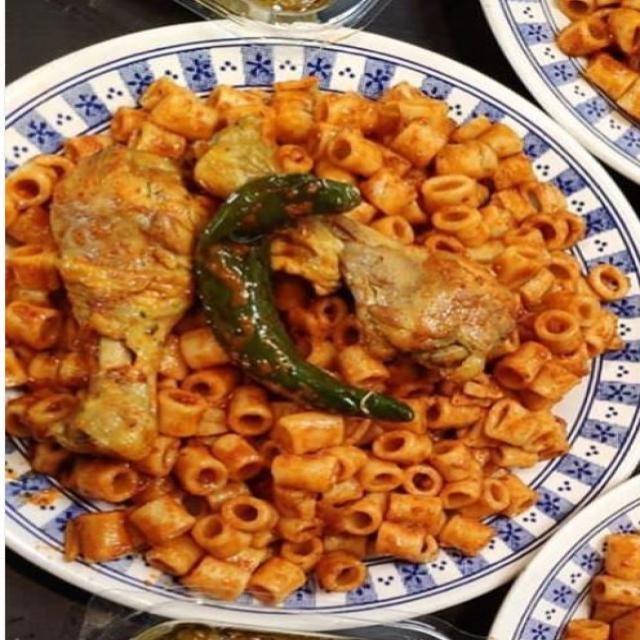Pasta: (2, 57, 588, 564)
